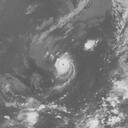cyclone: (46, 51, 79, 85)
